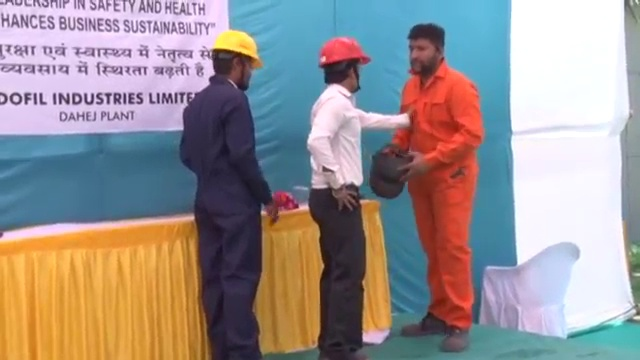helmet: (211, 26, 263, 72), (315, 34, 373, 68)
helmet_off: (408, 22, 446, 75)
helmet_on: (313, 33, 374, 95), (209, 26, 263, 92)
person: (177, 26, 282, 359), (309, 32, 413, 360), (394, 21, 483, 352)
